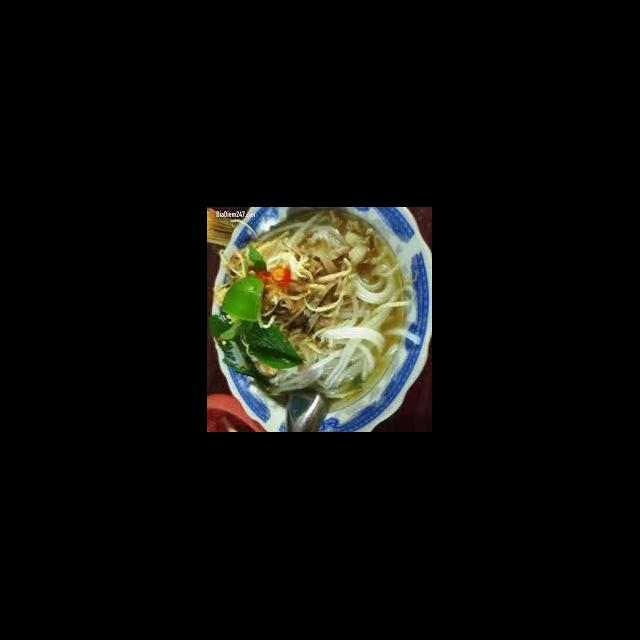bun: (266, 255, 410, 400)
